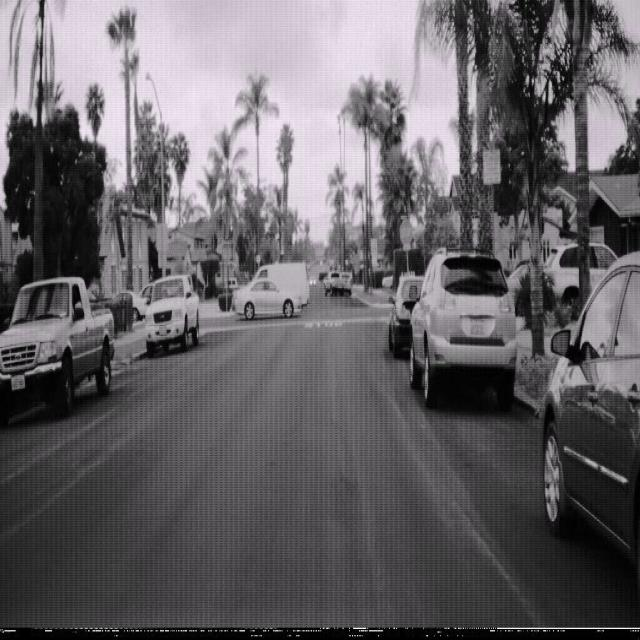stop_sign: (398, 217, 414, 246)
